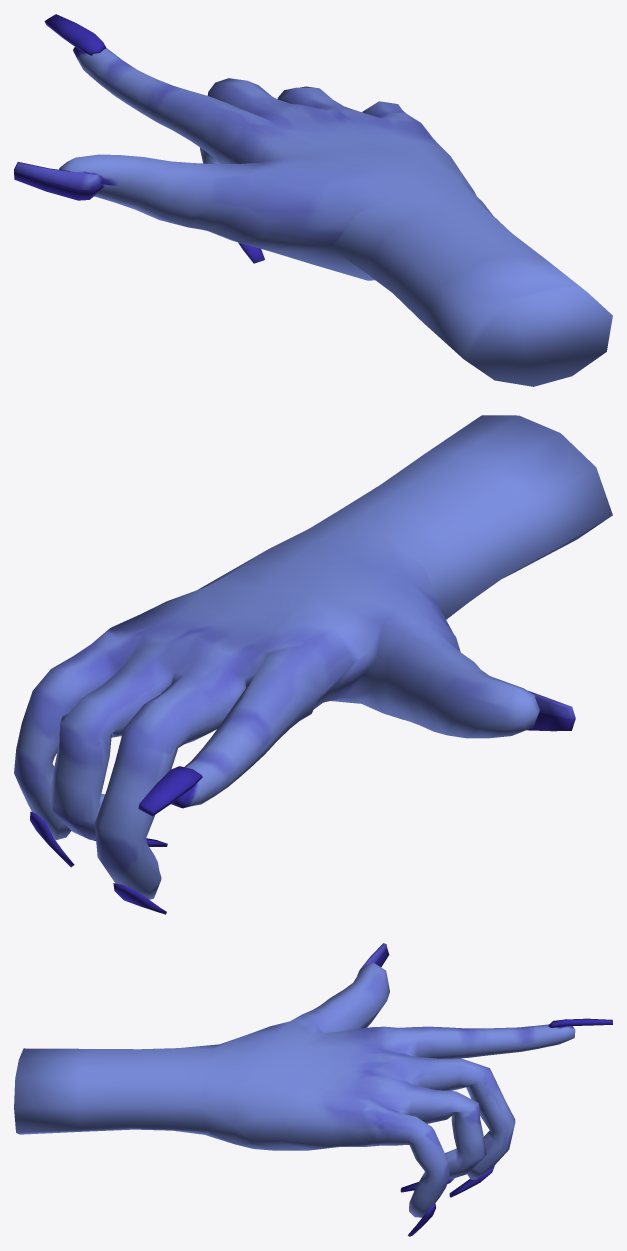
Rendered from hand new.fbx.
3 renders of one model, top to bottom at view 1: azimuth 30°, elevation 25°; view 2: azimuth 150°, elevation 25°; view 3: azimuth 270°, elevation 25°, orthographic. The views are drawn at different scales.
Visible parts, largest first — view 1: body.002; view 2: body.002; view 3: body.002.
Boxes of the visible parts, <box> form: body.002: <box>14,14,612,386</box>; body.002: <box>14,415,612,914</box>; body.002: <box>14,943,612,1236</box>.
Bounding box in the file's own units: 13.64 × 6.54 × 23.05.
Materials: 1 (1 with a texture image).
